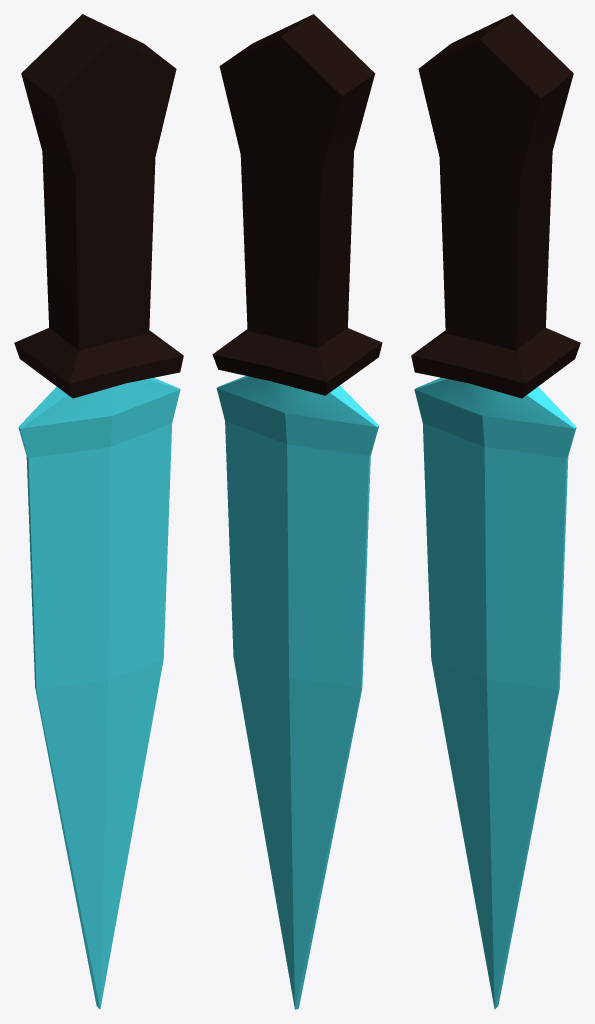
Rendered from Knife.fbx.
3 renders of one model, left to right at view 1: azimuth 30°, elevation 25°; view 2: azimuth 150°, elevation 25°; view 3: azimuth 330°, elevation 25°, orthographic.
Parts seen in each view (by area): view 1: Knif; view 2: Knif; view 3: Knif.
Part boxes in pixels (bbox=[...]): Knif: bbox=[14, 14, 183, 1009]; Knif: bbox=[212, 14, 382, 1009]; Knif: bbox=[411, 14, 580, 1009].
Bounding box in the file's own units: 19.25 × 113 × 11.57.
